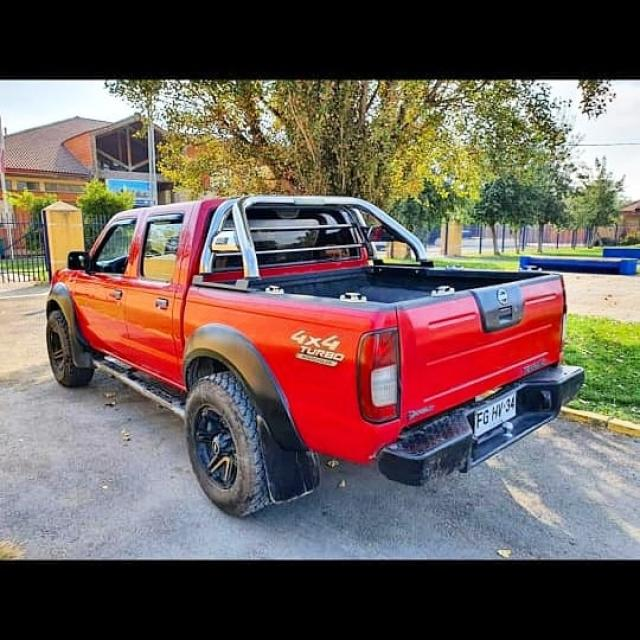patente: (469, 388, 517, 438)
